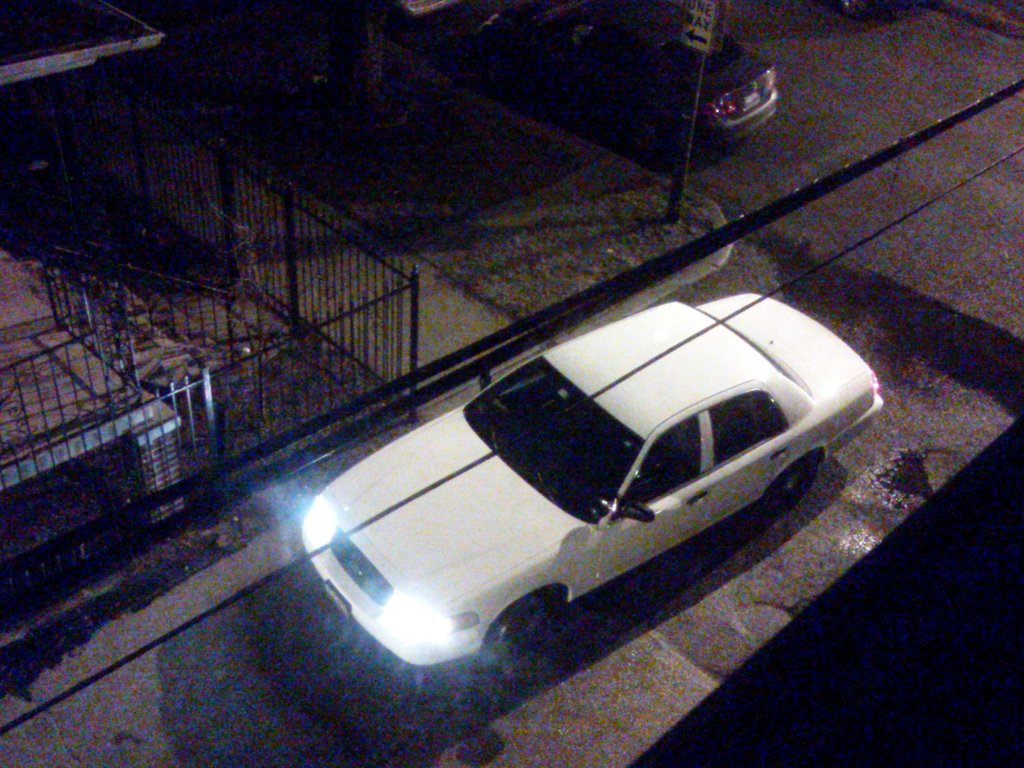car: (267, 256, 910, 706), (546, 1, 789, 192)
